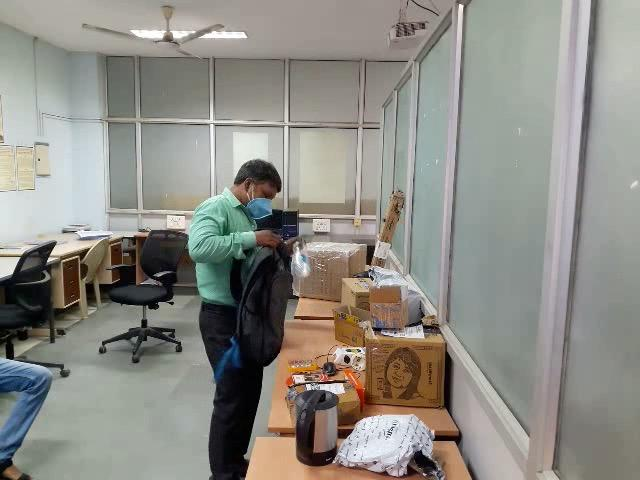shoplifting: (164, 212, 368, 366)
